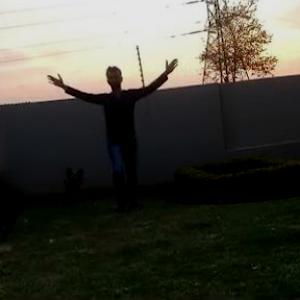takeoff: (59, 51, 208, 220)
